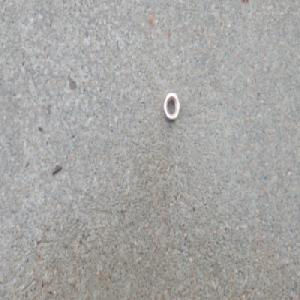Nut: (162, 91, 179, 122)
